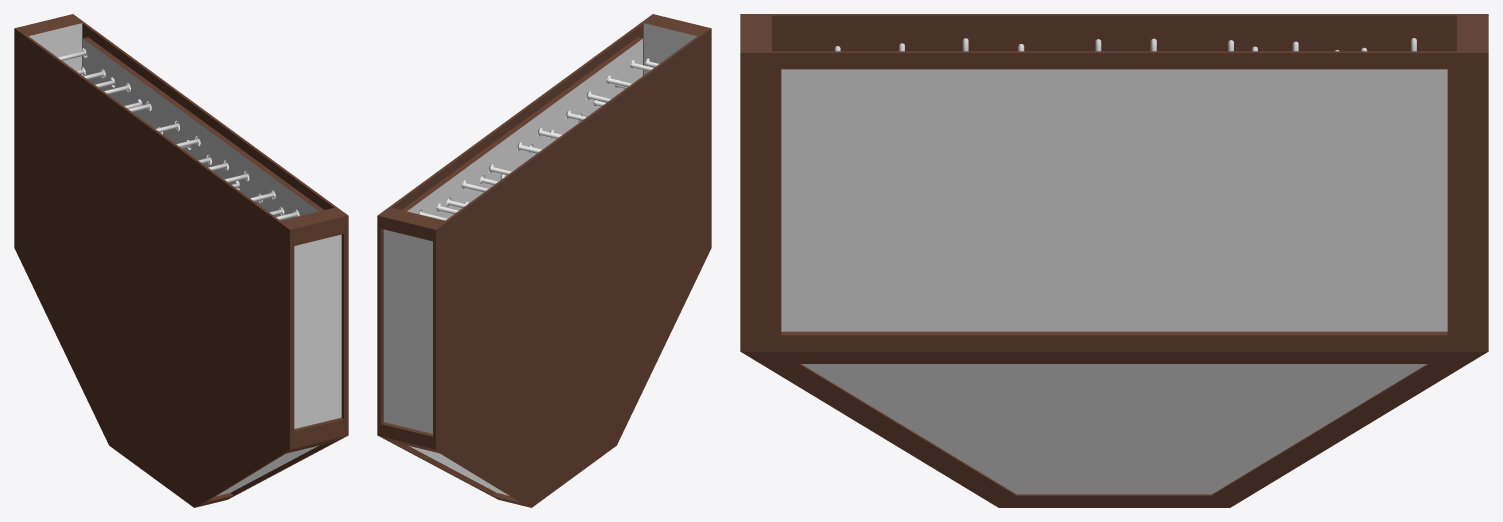
File: plinko box.fbx
3 views of the same model, side by side, from view 1: azimuth 30°, elevation 25°; view 2: azimuth 150°, elevation 25°; view 3: azimuth 270°, elevation 25° (orthographic). The views are drawn at different scales.
Visible parts, largest first — view 1: Plink, Plink.001, Nail; view 2: Plink, Plink.001, Nail; view 3: Plink.001, Plink.
Part boxes in pixels (left/top/right/bottom): Plink: left=14, top=14, right=348, bottom=507; Plink.001: left=29, top=23, right=341, bottom=496; Nail: left=58, top=48, right=299, bottom=220; Plink: left=377, top=14, right=711, bottom=507; Plink.001: left=383, top=23, right=696, bottom=495; Nail: left=418, top=58, right=658, bottom=220; Plink.001: left=781, top=69, right=1447, bottom=494; Plink: left=740, top=14, right=1488, bottom=507.
Bounding box in the file's own units: 96.84 × 544 × 782.
